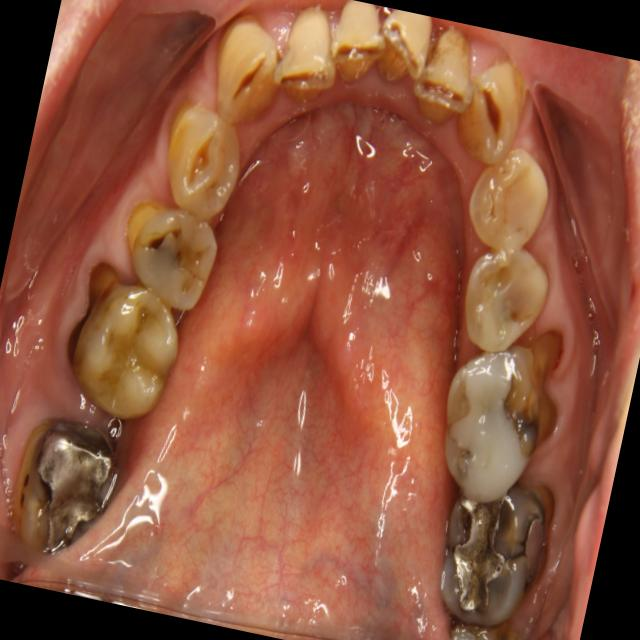tooth: (48, 243, 199, 434), (420, 329, 563, 518), (0, 401, 141, 585), (421, 465, 561, 640), (451, 116, 568, 268), (447, 221, 564, 367), (108, 186, 231, 322), (149, 88, 260, 235), (193, 0, 302, 143), (446, 37, 539, 182), (405, 16, 488, 142), (266, 0, 352, 116), (319, 0, 393, 99), (367, 7, 438, 102)
